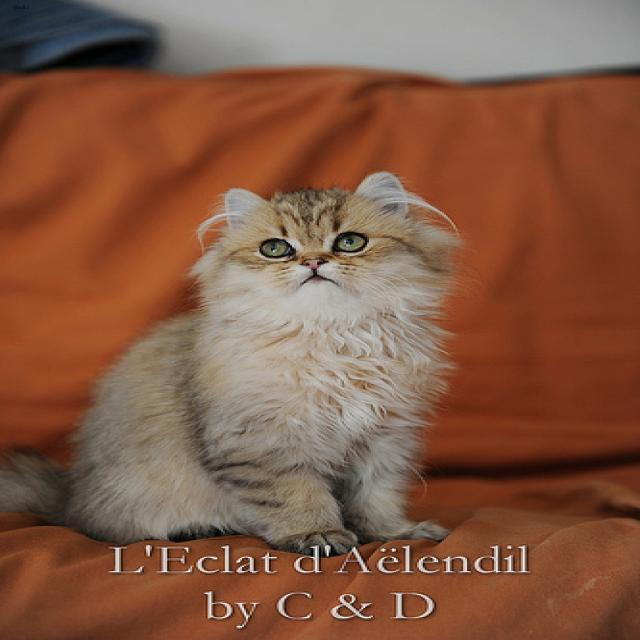Persian: (184, 162, 465, 323)
